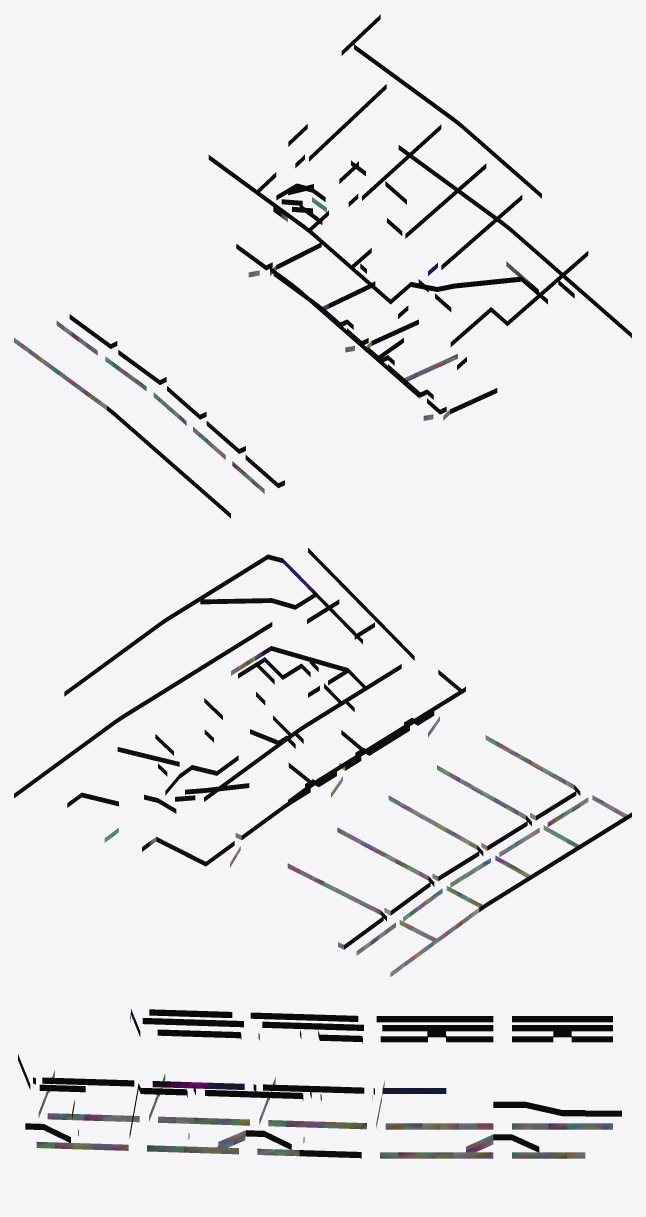
Rendered from HandRail_04.gltf.
3 renders of one model, top to bottom at view 1: azimuth 30°, elevation 25°; view 2: azimuth 150°, elevation 25°; view 3: azimuth 270°, elevation 25°, orthographic. The views are drawn at different scales.
Parts seen in each view (by area): view 1: HandRail_04; view 2: HandRail_04; view 3: HandRail_04.
Boxes of the visible parts, x1=… form: HandRail_04: x1=14, y1=14, x2=631, y2=518; HandRail_04: x1=14, y1=548, x2=631, y2=976; HandRail_04: x1=18, y1=1009, x2=621, y2=1158.
Size of the model in its own units: 82.92 by 45.76 by 86.05.
